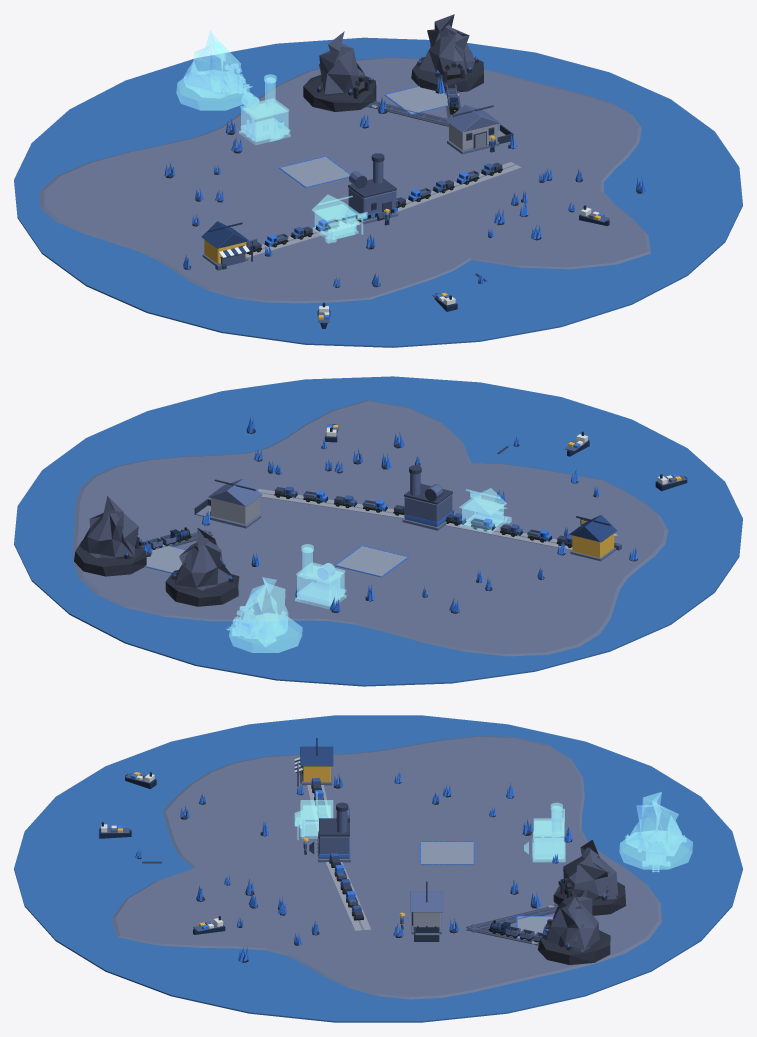
File: Island_Sapphire.fbx
3 views of the same model, one above another, from view 1: azimuth 30°, elevation 25°; view 2: azimuth 150°, elevation 25°; view 3: azimuth 270°, elevation 25° (orthographic).
Visible parts, largest first — view 1: isle_Sapphire, lagoon_Sapphire, ghost_mine.007, mine_Sapphire.001, mine_Sapphire, ghost_refinery.007, refinery.007, storage.007, market.007, ghost_market.007, pad_expand.015, pad_expand.014 (+1 smaller); view 2: isle_Sapphire, lagoon_Sapphire, mine_Sapphire, ghost_mine.007, mine_Sapphire.001, storage.007, refinery.007, ghost_refinery.007, market.007, ghost_market.007, pad_expand.015, pad_expand.014 (+2 smaller); view 3: isle_Sapphire, lagoon_Sapphire, ghost_mine.007, mine_Sapphire, mine_Sapphire.001, ghost_refinery.007, refinery.007, storage.007, market.007, pad_expand.015, ghost_market.007, road.017.
Boxes of the visible parts, x1,y1,x2,y2 form: isle_Sapphire: (39, 57, 651, 303); lagoon_Sapphire: (14, 37, 742, 347); ghost_mine.007: (176, 30, 252, 110); mine_Sapphire.001: (303, 31, 376, 111); mine_Sapphire: (411, 14, 483, 93); ghost_refinery.007: (239, 74, 290, 144); refinery.007: (347, 153, 398, 224); storage.007: (446, 104, 513, 154); market.007: (201, 221, 257, 270); ghost_market.007: (312, 194, 367, 243); pad_expand.015: (279, 156, 350, 188); pad_expand.014: (384, 86, 447, 114); isle_Sapphire: (73, 400, 668, 656); lagoon_Sapphire: (14, 376, 742, 686); mine_Sapphire: (74, 496, 146, 576); ghost_mine.007: (226, 577, 302, 652); mine_Sapphire.001: (165, 527, 239, 606); storage.007: (194, 479, 262, 528); refinery.007: (402, 465, 453, 530); ghost_refinery.007: (295, 544, 346, 608); market.007: (569, 515, 621, 561); ghost_market.007: (459, 488, 511, 533); pad_expand.015: (335, 545, 408, 577); pad_expand.014: (144, 544, 185, 573); isle_Sapphire: (112, 736, 661, 999); lagoon_Sapphire: (14, 715, 742, 1022); ghost_mine.007: (619, 792, 692, 872); mine_Sapphire: (533, 889, 610, 964); mine_Sapphire.001: (551, 840, 626, 915); ghost_refinery.007: (524, 802, 565, 862); refinery.007: (309, 802, 350, 862); storage.007: (410, 881, 443, 941); market.007: (294, 738, 333, 786); pad_expand.015: (419, 841, 474, 865); ghost_market.007: (294, 792, 333, 839); road.017: (325, 862, 371, 931).
Bounding box in the file's own units: 148 × 20.42 × 149.
